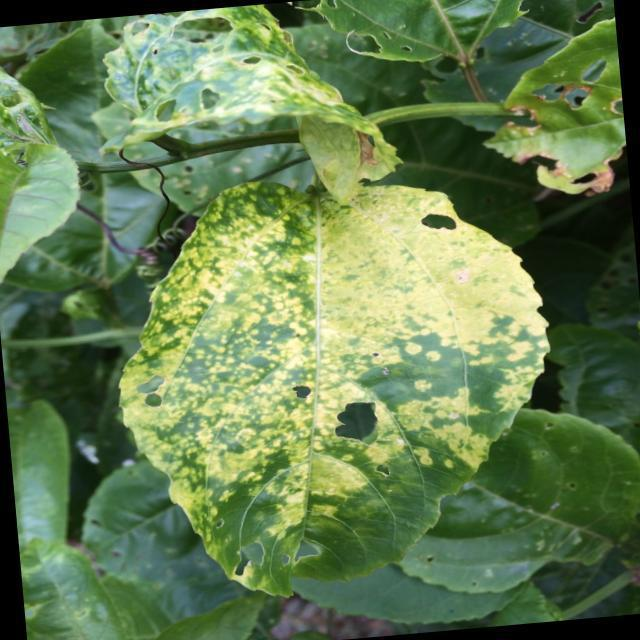Mosaic Virus: (105, 151, 544, 580), (95, 0, 410, 201)
